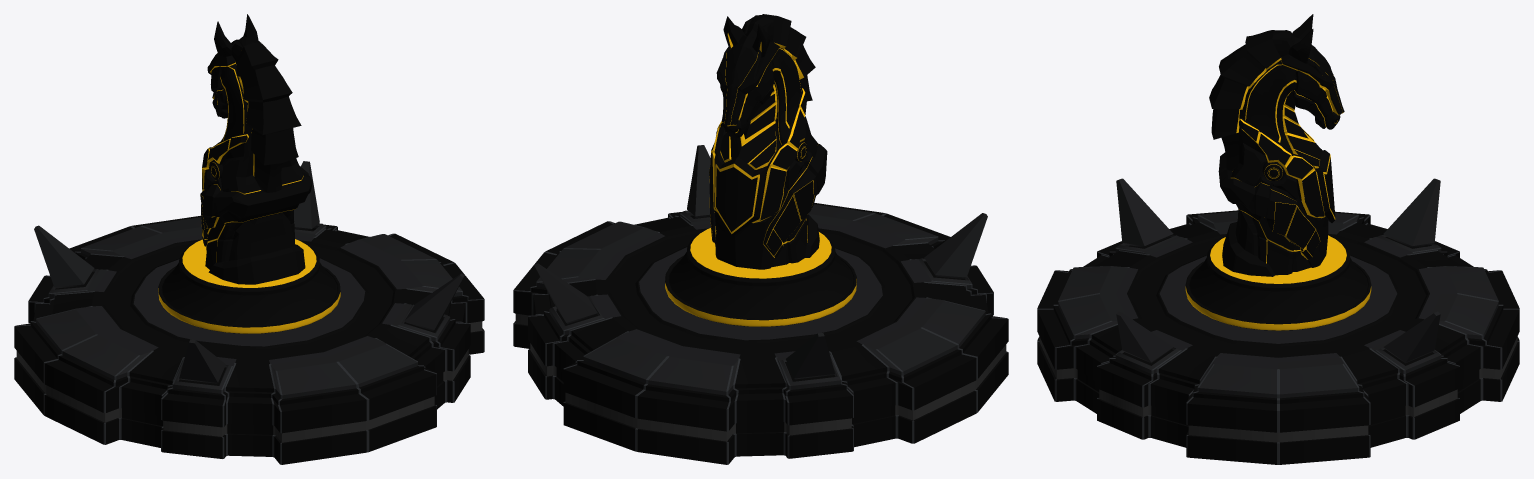
Rendered from knight.glb.
3 views of the same model, side by side, from view 1: azimuth 30°, elevation 25°; view 2: azimuth 150°, elevation 25°; view 3: azimuth 270°, elevation 25° (orthographic). The views are drawn at different scales.
Visible parts, largest first — view 1: Cylinder, RetopoFlow.015; view 2: Cylinder, RetopoFlow.015; view 3: Cylinder, RetopoFlow.015.
Boxes of the visible parts, bbox=[...] form: Cylinder: bbox=[14, 161, 484, 464]; RetopoFlow.015: bbox=[158, 14, 340, 333]; Cylinder: bbox=[513, 145, 1008, 464]; RetopoFlow.015: bbox=[665, 14, 856, 326]; Cylinder: bbox=[1037, 178, 1519, 464]; RetopoFlow.015: bbox=[1185, 14, 1371, 330].
Bounding box in the file's own units: 3.23 × 2.52 × 3.23.
